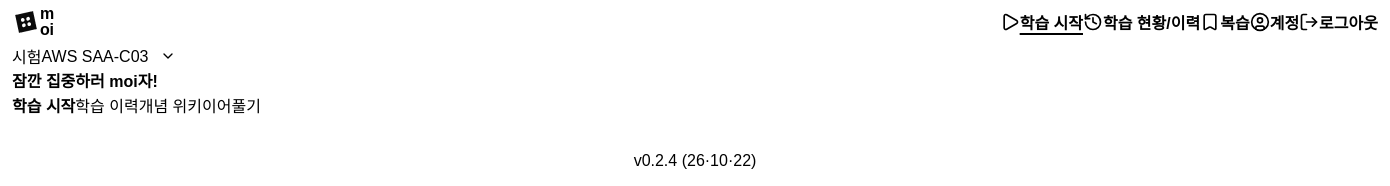
Scenario: 내비게이션 로그아웃 액션 (#234/ADR-0072) › 로그아웃 pending 동안은 disabled + aria-busy다
The image size is (1390, 186).
Click the button "로그아웃". click: (1339, 22)
box: [1299,9,1378,35]
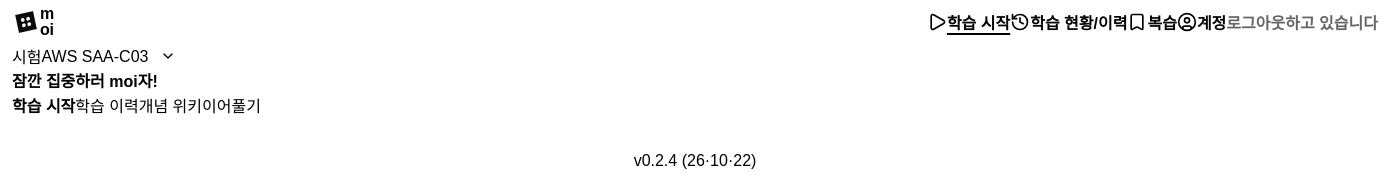
Expected: the button "로그아웃하고 있습니다" is disabled, [1226,9,1378,35]
